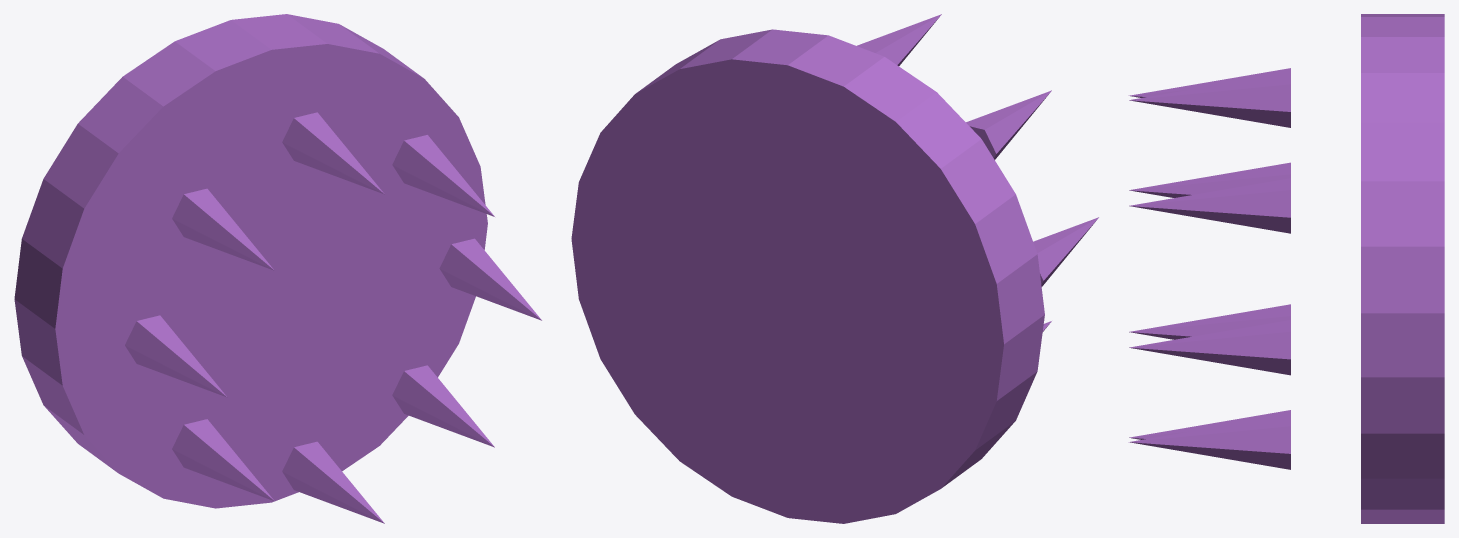
The picture shows the model from 3 angles, left to right: view 1: azimuth 30°, elevation 25°; view 2: azimuth 150°, elevation 25°; view 3: azimuth 270°, elevation 25°; orthographic projection. The views are drawn at different scales.
Visible parts, largest first — view 1: world; view 2: world; view 3: world.
Boxes of the visible parts, left/top/right/bottom form: world: left=14, top=14, right=541, bottom=523; world: left=571, top=14, right=1098, bottom=523; world: left=1128, top=14, right=1444, bottom=523.
Size of the model in its own units: 1.1 by 1.1 by 0.68.
